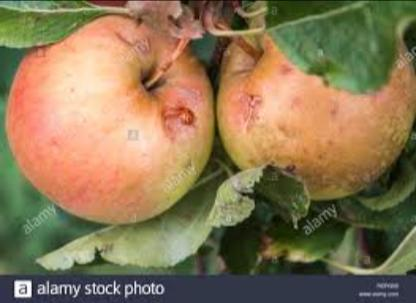defect: (223, 37, 363, 193), (100, 29, 234, 185)
